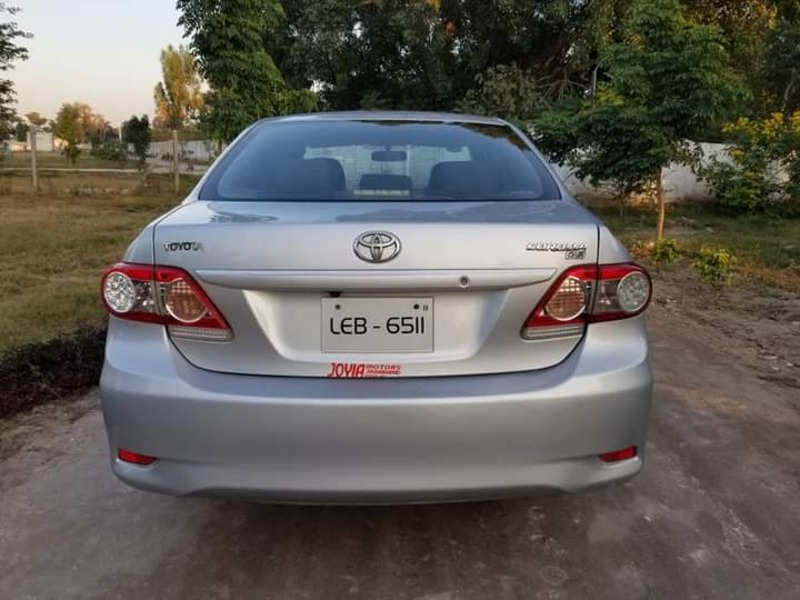License Plate: (317, 292, 439, 361)
